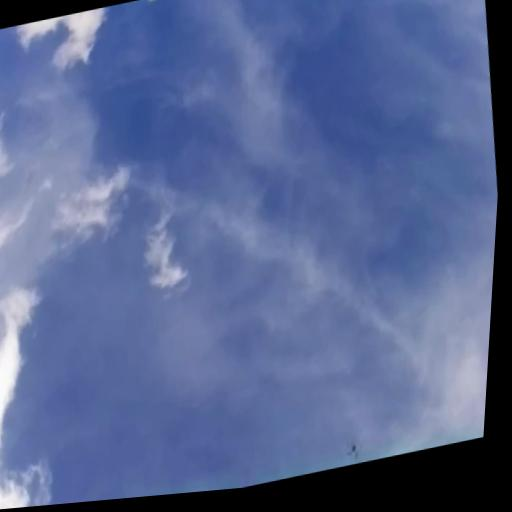drones: (342, 434, 367, 463)
